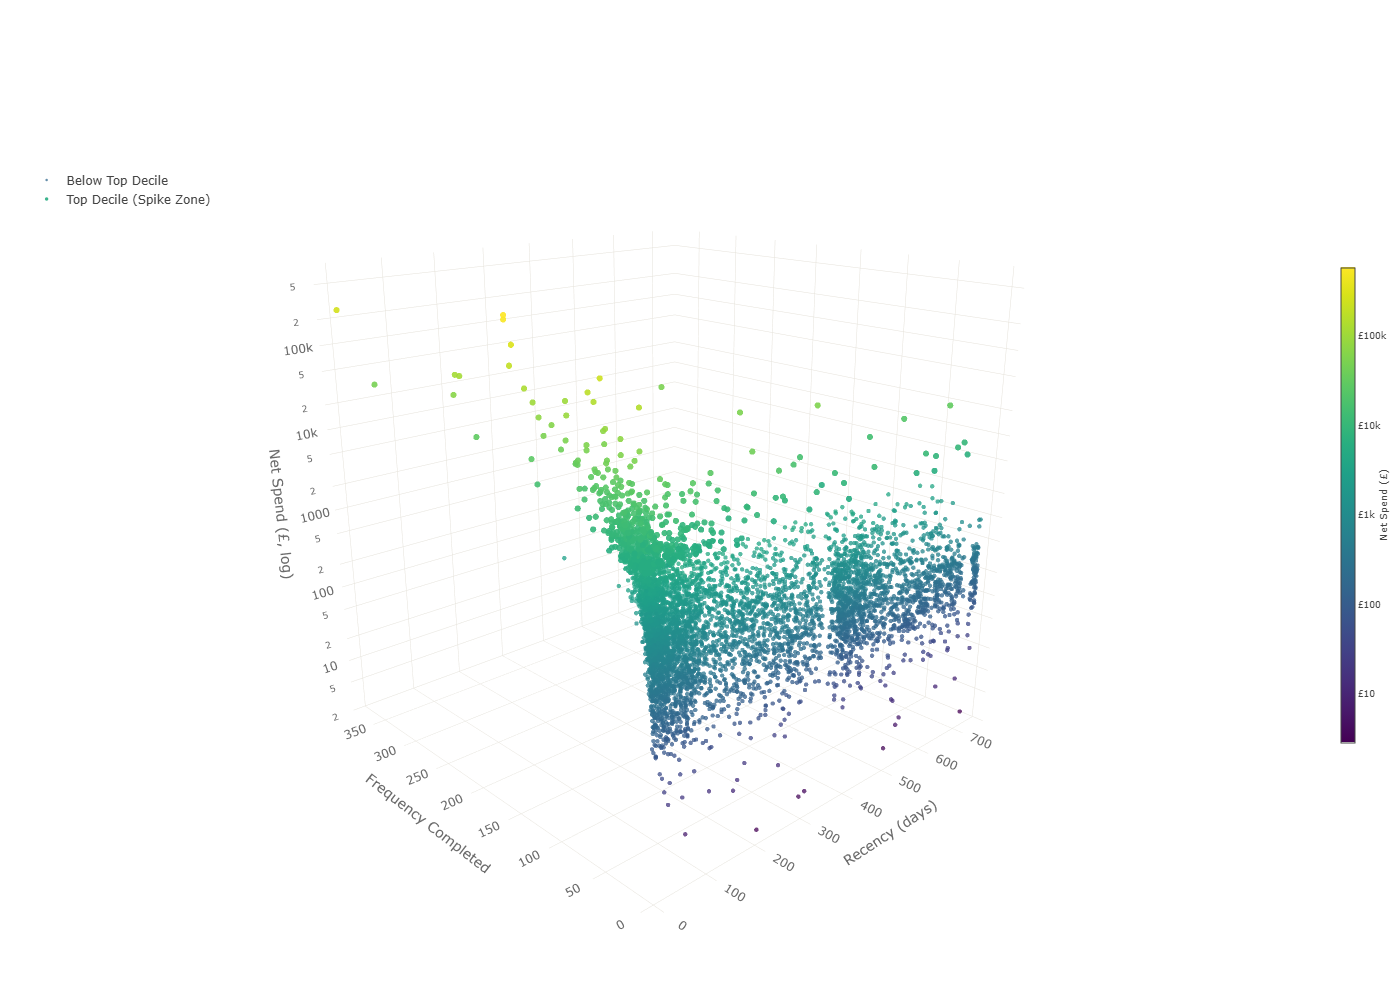

The page's visual inventory and layout, read from the dashboard file:
{"tool":"tableau","page":{"name":"Dashboard 3","canvas":[1000,800],"ordinal":2},"visuals":[{"type":"worksheet","title":"Sheet 9","mark":"Automatic","rows":["Calculation_0943130854801411"],"box":[382,410,311,266]}]}

Visuals, with their boxes on the page's 1000x800 design canvas (x1, y1, x2, y2). These are canvas units, not pixel positions in the 1400x1000 screenshot, which may show the page scaled, cropped or inside an application window:
"Sheet 9" worksheet: {"left": 382, "top": 410, "right": 693, "bottom": 676}
